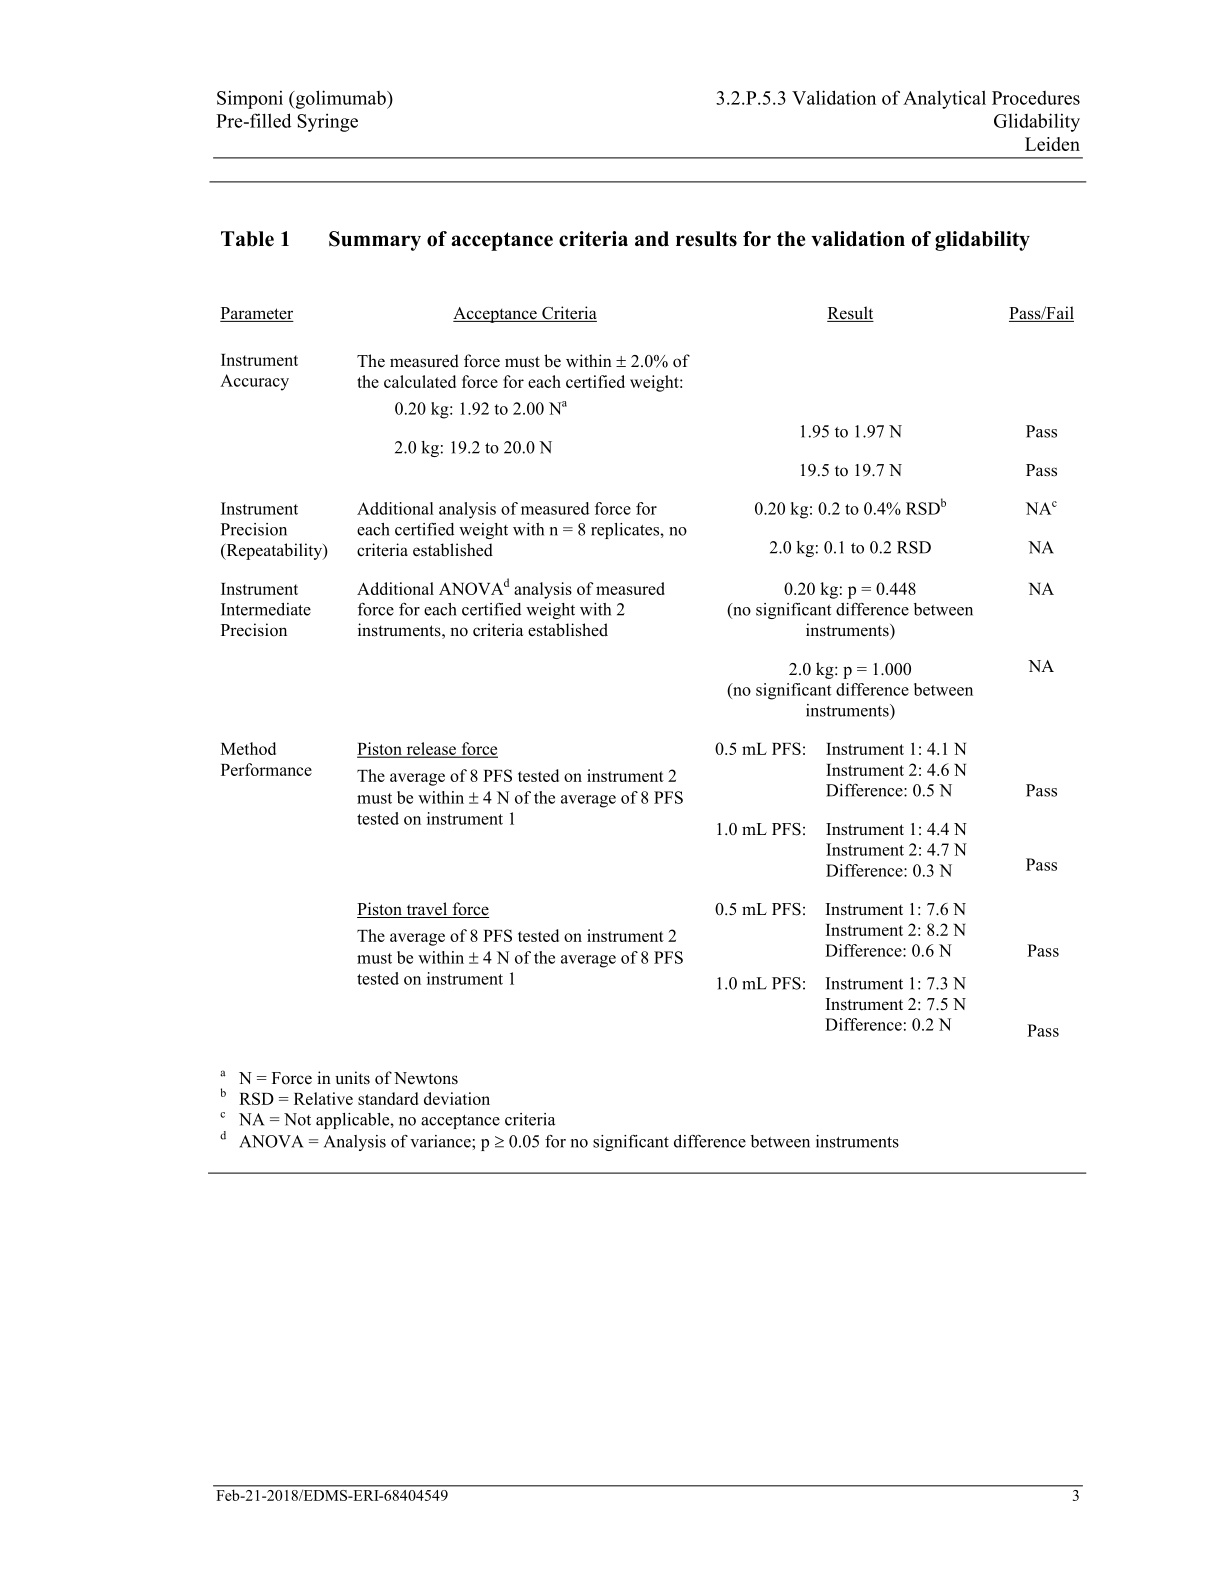nolines: (219, 301, 1077, 1040)
